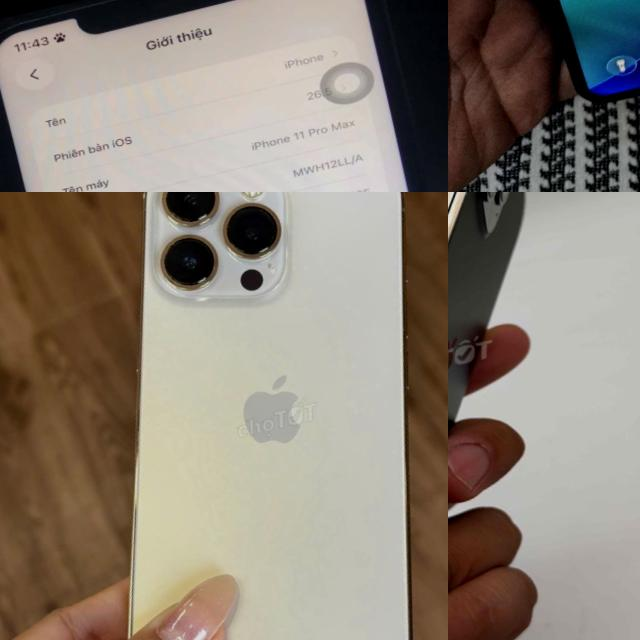gen_11: (0, 0, 448, 192), (546, 0, 640, 101)
gen_12_13: (0, 192, 448, 640), (448, 192, 640, 640)
